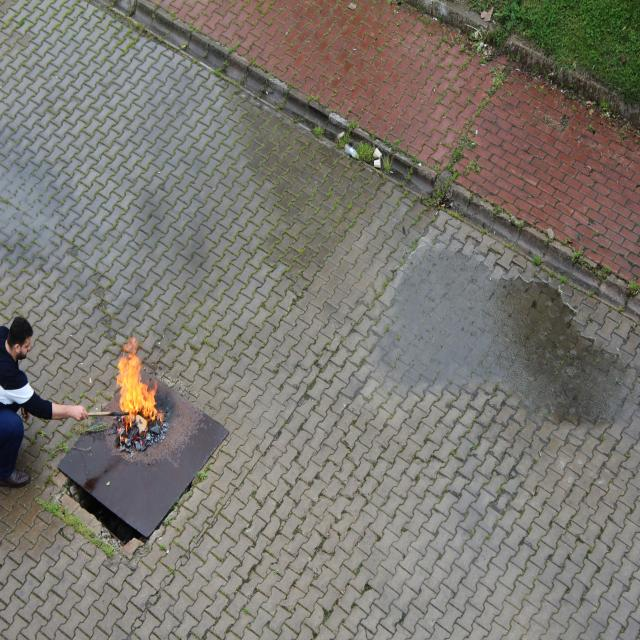fire: (113, 337, 162, 434)
